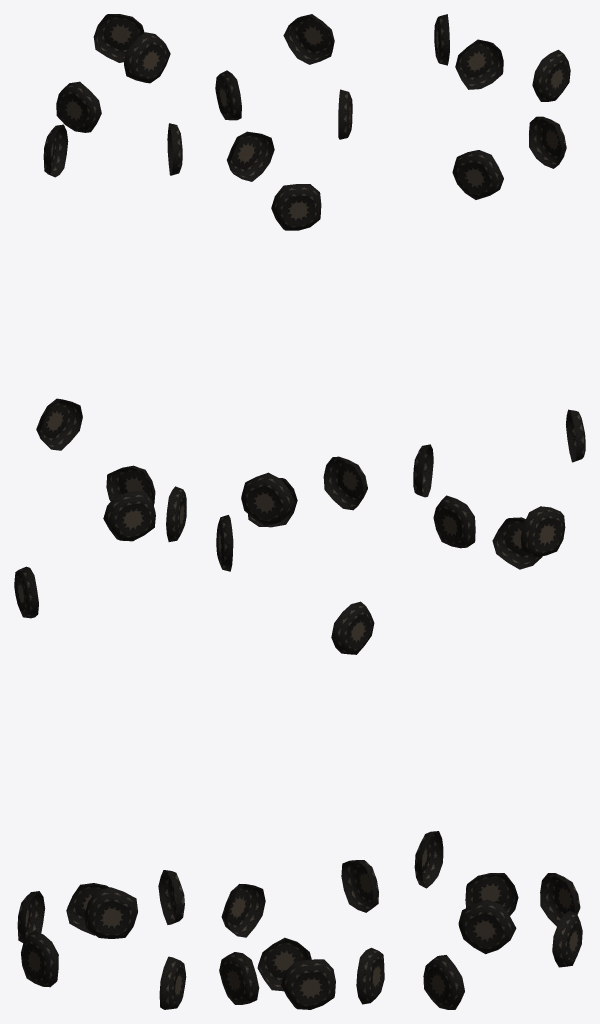
The model's file is Sitka_Mature_03_MediumPruned_Healed_LOD2.fbx.
3 renders of one model, left to right at view 1: azimuth 30°, elevation 25°; view 2: azimuth 150°, elevation 25°; view 3: azimuth 270°, elevation 25°, orthographic.
Visible parts, largest first — view 1: Sitka_Mature_03_MediumPruned_Healed_LOD2_Scars; view 2: Sitka_Mature_03_MediumPruned_Healed_LOD2_Scars; view 3: Sitka_Mature_03_MediumPruned_Healed_LOD2_Scars.
Part boxes in pixels (x1,y1,x2,y2): Sitka_Mature_03_MediumPruned_Healed_LOD2_Scars: (14,14,186,1009); Sitka_Mature_03_MediumPruned_Healed_LOD2_Scars: (215,14,384,1009); Sitka_Mature_03_MediumPruned_Healed_LOD2_Scars: (413,14,585,1009).
Size of what is drawn, in the model's own units: 42.79 by 270 by 43.06.
Materials: 2 (2 with a texture image).
